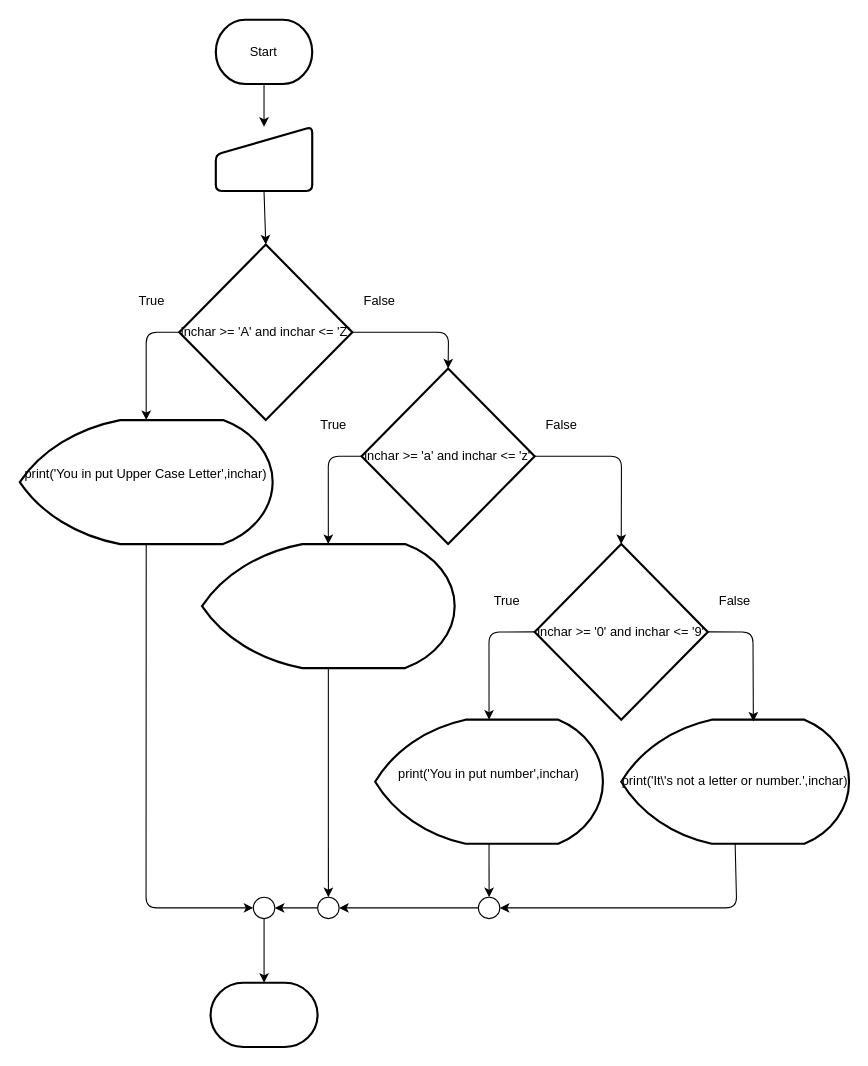
This 868x1066 diagram has some shape labels left out. The shapes that lost their labels are listed below. From the top down, each one's centre as x and y in pixels, then its label:
At pixel 263 158: "inchar".
At pixel 327 605: "print('You in put Lower Case Letter',inchar)".
At pixel 263 1014: "End".
